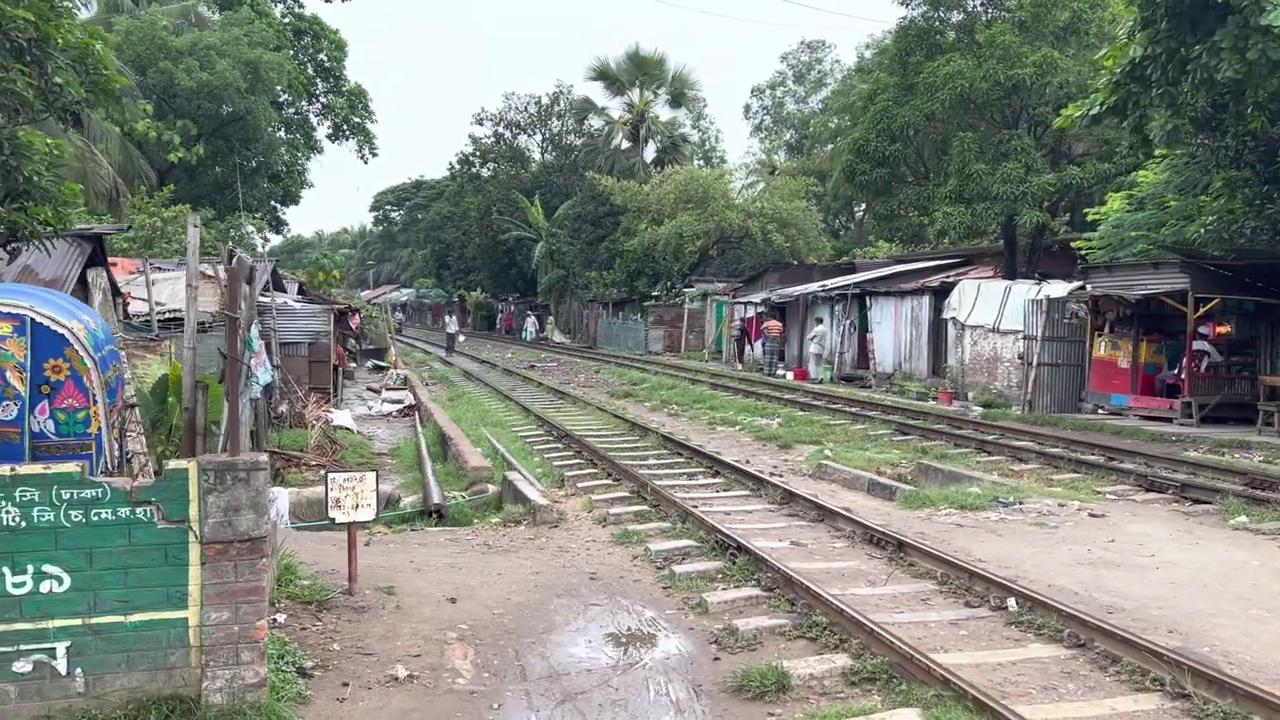Fence: (758, 310, 783, 376), (805, 315, 827, 383), (730, 317, 752, 371), (442, 309, 458, 356)
Motorcycle: (388, 322, 1278, 718)
Pothole: (325, 469, 378, 524)
Railroad-crossing: (0, 0, 160, 256), (568, 40, 705, 183)
